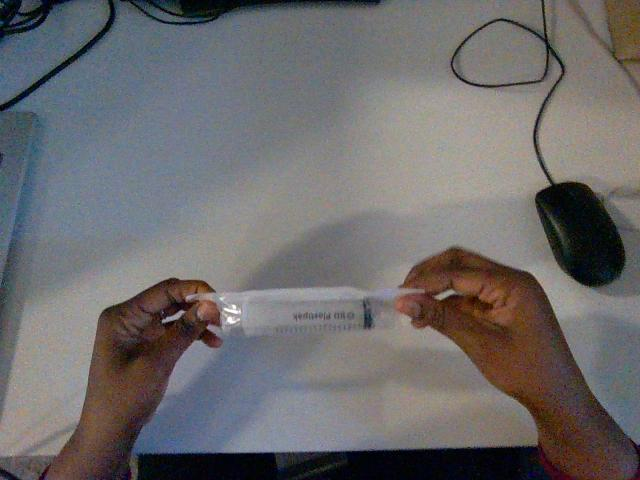syringe: (188, 287, 423, 335)
